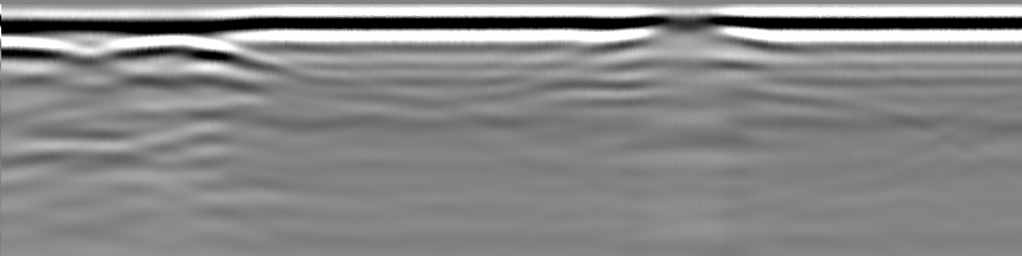pipe: (607, 16, 779, 55)
steel: (90, 33, 270, 70)
